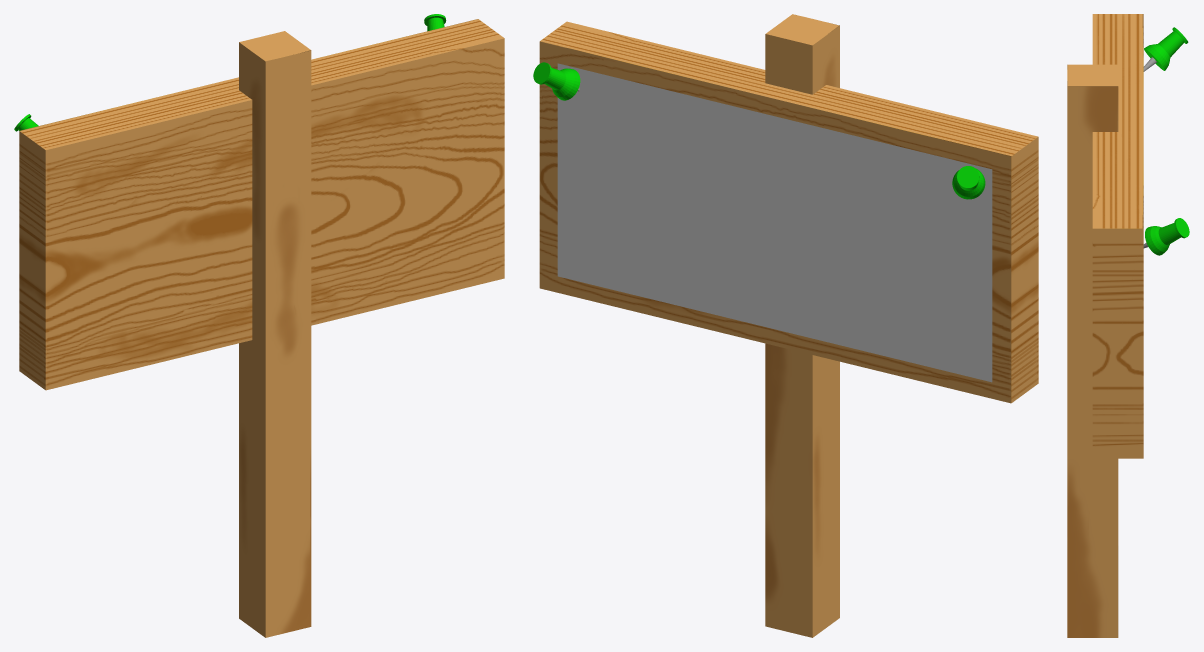
The model's file is SignBoard.fbx.
The picture shows the model from 3 angles, left to right: view 1: azimuth 30°, elevation 25°; view 2: azimuth 150°, elevation 25°; view 3: azimuth 270°, elevation 25°; orthographic projection. The views are drawn at different scales.
Visible parts, largest first — view 1: signBoardMain, signBoardRod; view 2: Papaer, signBoardMain, signBoardRod, RightThumbtack, LeftThumbtack; view 3: signBoardMain, signBoardRod, RightThumbtack, LeftThumbtack.
Boxes of the visible parts, bbox=[...] form: signBoardMain: bbox=[19, 19, 504, 390]; signBoardRod: bbox=[239, 31, 311, 637]; Papaer: bbox=[557, 63, 992, 382]; signBoardMain: bbox=[539, 21, 1038, 403]; signBoardRod: bbox=[765, 14, 839, 637]; RightThumbtack: bbox=[533, 62, 580, 100]; LeftThumbtack: bbox=[952, 166, 985, 199]; signBoardMain: bbox=[1092, 14, 1143, 458]; signBoardRod: bbox=[1067, 64, 1118, 637]; RightThumbtack: bbox=[1143, 218, 1189, 255]; LeftThumbtack: bbox=[1143, 27, 1188, 71].
Size of the model in its own units: 1000 by 1200 by 241.
